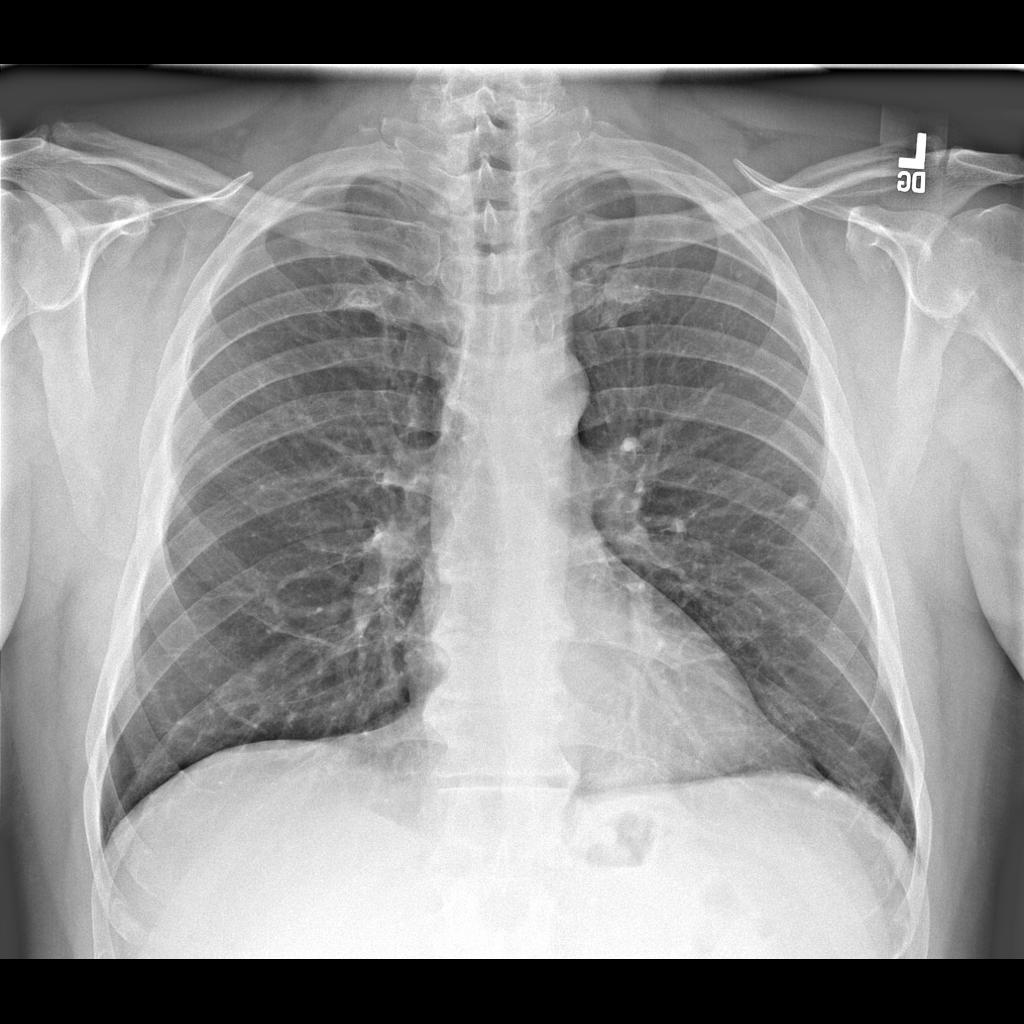Nodule: (787, 486, 814, 518)
